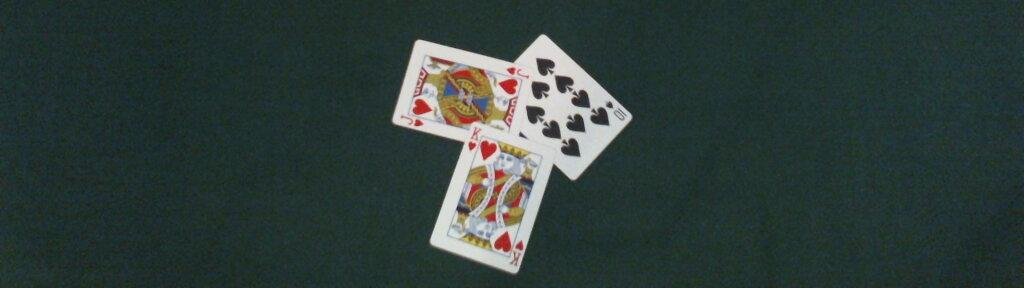jack: (391, 40, 536, 142)
king: (430, 123, 558, 273)
ten: (513, 35, 633, 183)
